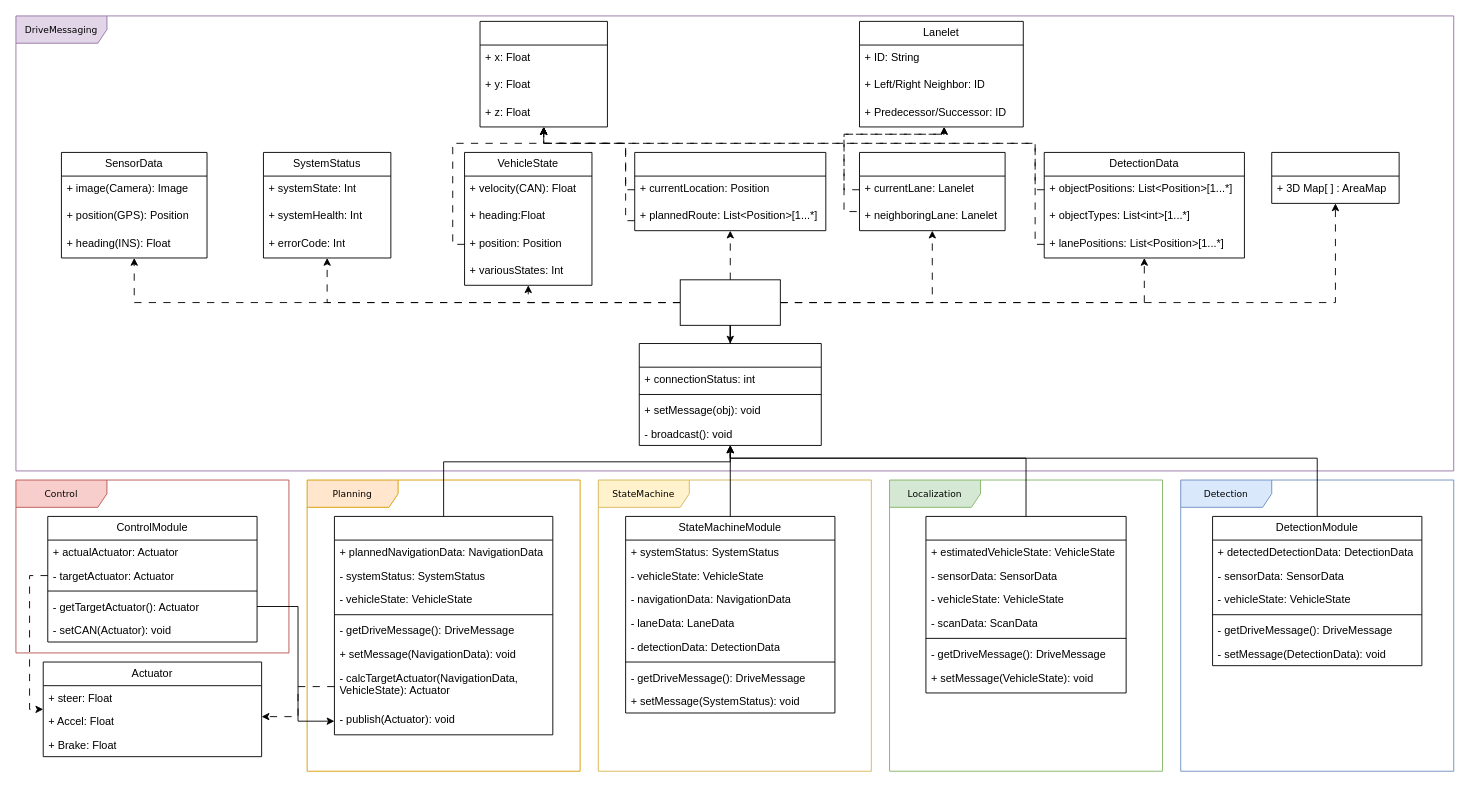
This 1470x787 diagram has some shape labels left out. The shapes that lost their labels are listed below. From the top down, each one's box as (x1, y1, x2, y2) in pixels, then its label:
(479, 20, 607, 127): Position
(634, 152, 826, 231): NavigationData
(859, 152, 1005, 231): LaneData
(1271, 152, 1399, 203): ScanData
(679, 279, 780, 325): DriveMessage
(638, 343, 821, 445): CommunicationModule
(925, 516, 1126, 693): LocalizationModule
(334, 516, 553, 735): PlanningModule
